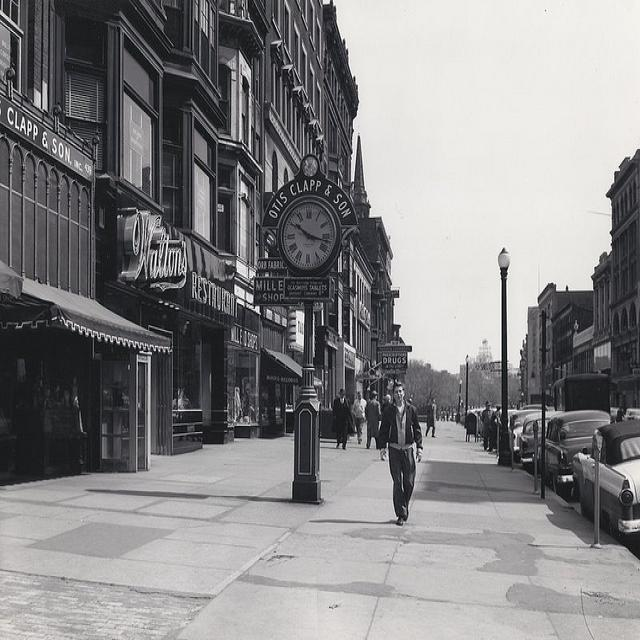Vehicle: (573, 420, 640, 556), (546, 409, 612, 500), (513, 411, 543, 475), (508, 408, 542, 454), (491, 409, 518, 431), (467, 408, 484, 437), (622, 407, 640, 426), (610, 407, 624, 422), (521, 404, 548, 410), (460, 412, 466, 424)
